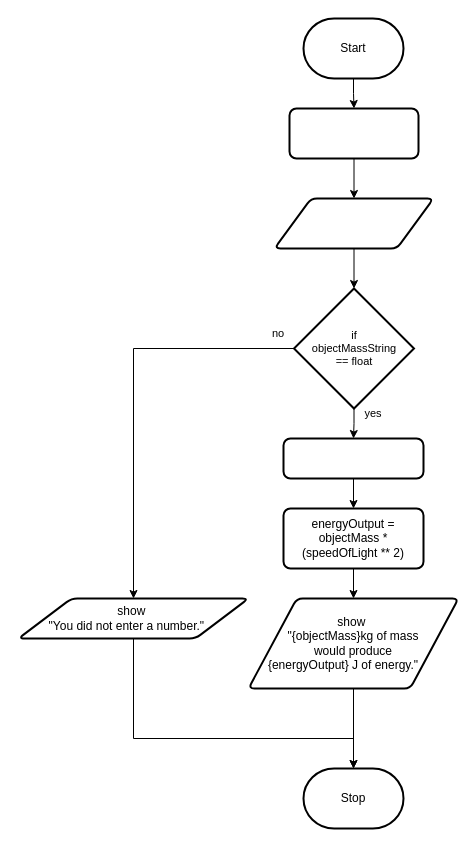
This 476x846 diagram has some shape labels left out. Here are the shapes that lost their labels. From the top down, the centre of each, then its label:
At (353,133): "const speedOfLight = 2.998 * (10 ** 8)".
At (353,223): "Get mass of object in kilograms".
At (353,458): "convert objectMassString to objectMass".
